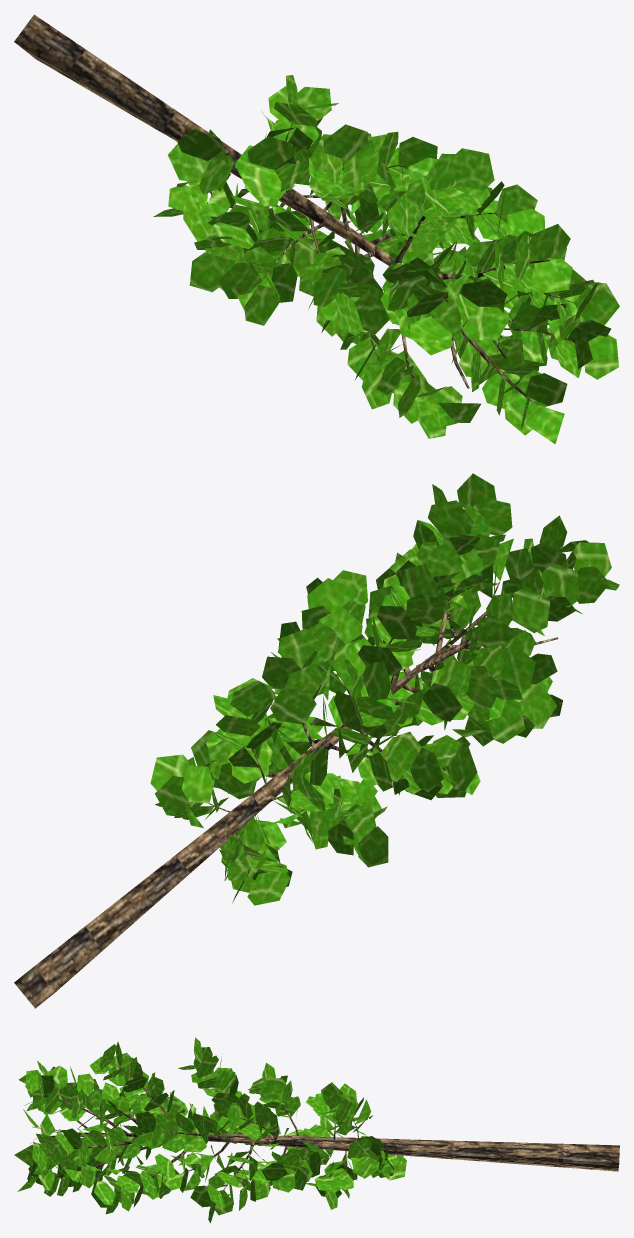
Rendered from tree2.obj.
3 renders of one model, top to bottom at view 1: azimuth 30°, elevation 25°; view 2: azimuth 150°, elevation 25°; view 3: azimuth 270°, elevation 25°, orthographic. The views are drawn at different scales.
Parts seen in each view (by area): view 1: leaves, tree_Mesh; view 2: leaves, tree_Mesh; view 3: leaves, tree_Mesh.
Boxes of the visible parts, <box> form: leaves: <box>153,75,619,444</box>; tree_Mesh: <box>14,14,579,403</box>; leaves: <box>150,473,619,905</box>; tree_Mesh: <box>14,538,558,1008</box>; leaves: <box>14,1037,406,1222</box>; tree_Mesh: <box>32,1062,619,1193</box>.
Bounding box in the file's own units: 0.5561 × 0.5711 × 1.9.
